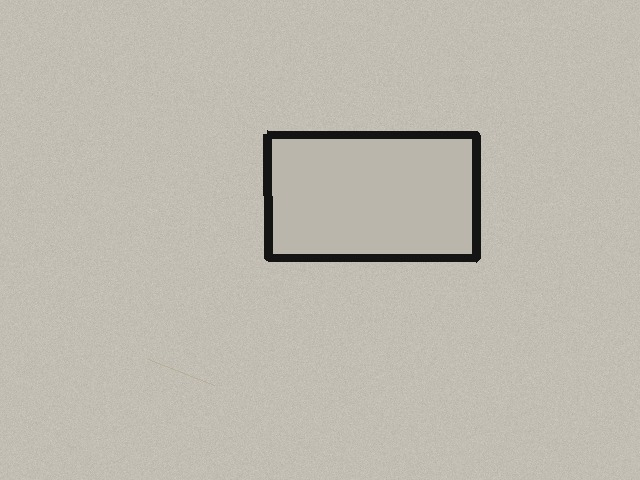parking_area: (267, 134, 476, 258)
